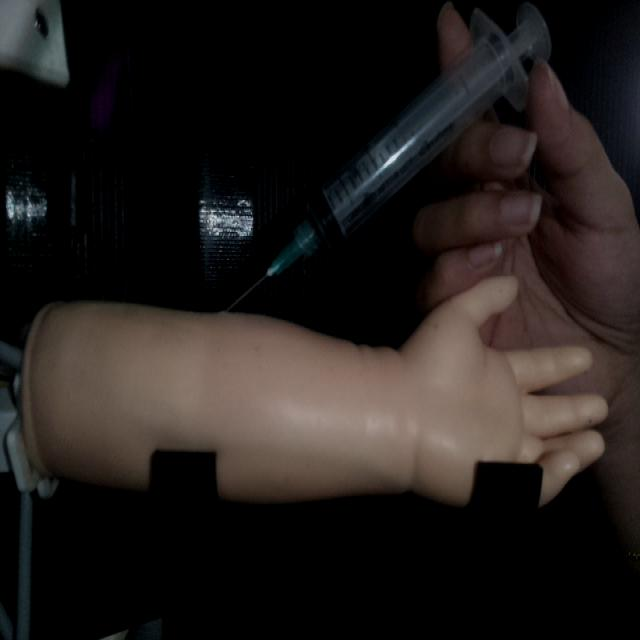Above 30 degrees: (219, 1, 553, 312)
